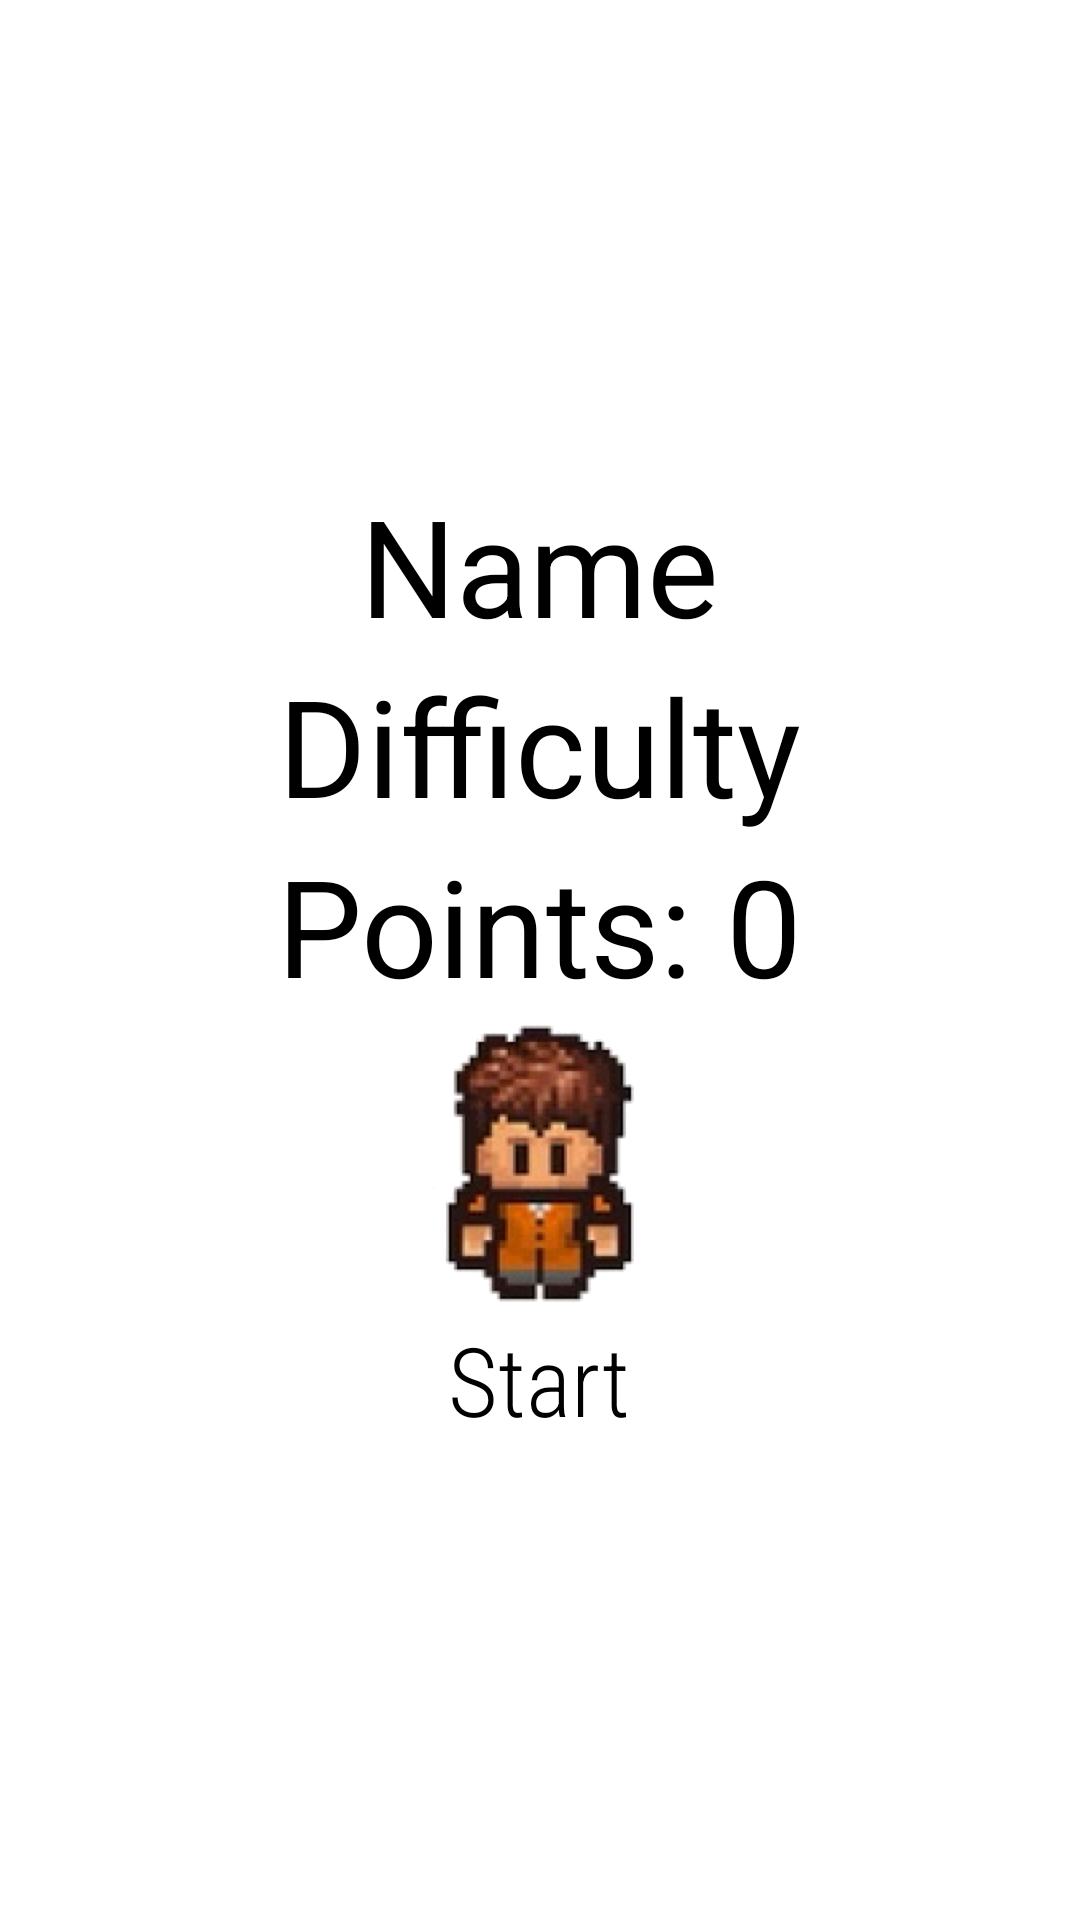

Where icons sit on this 1080 × 1920 app screen, as detection(x1, y1, x2, y2):
dude: detection(446, 1025, 634, 1302)
